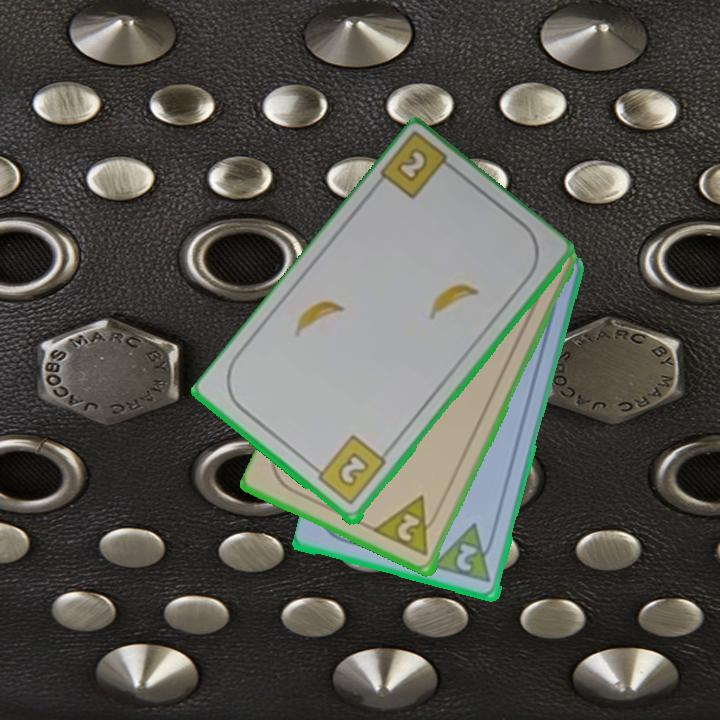2b: (309, 432, 389, 509), (393, 144, 431, 186)
2p: (372, 492, 446, 560), (431, 521, 500, 587)
